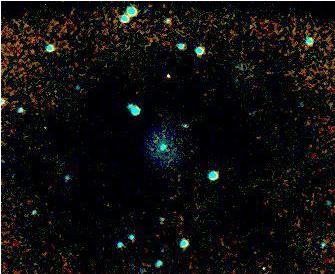star: (150, 68, 180, 98)
